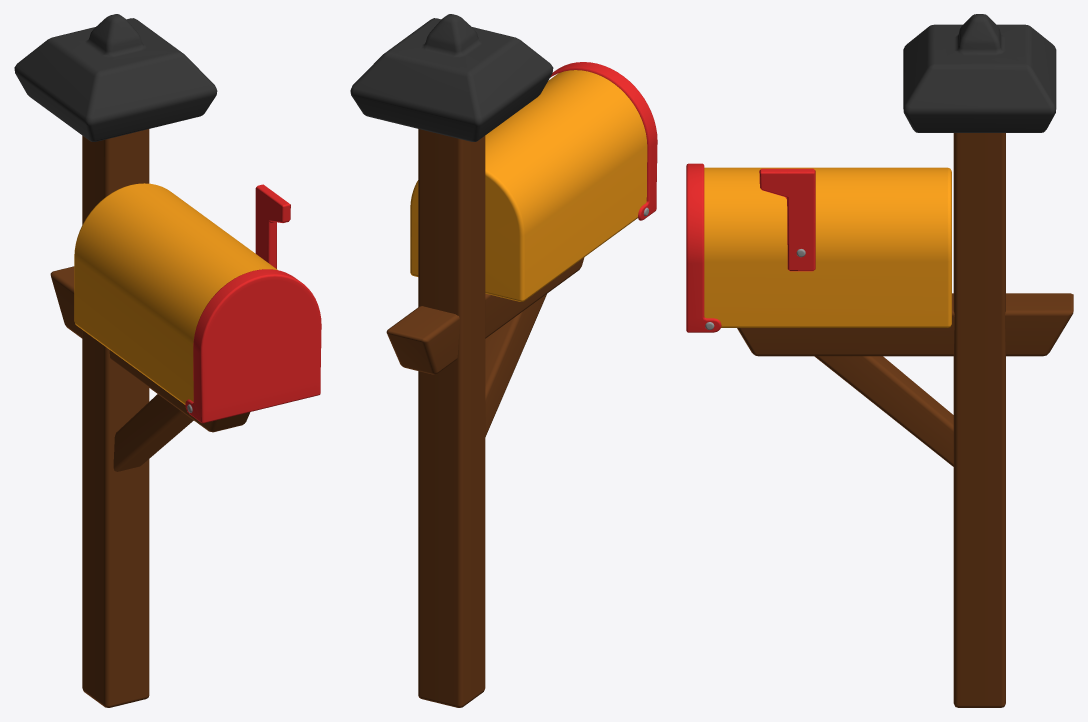
The model's file is mail-box.glb.
3 renders of one model, left to right at view 1: azimuth 30°, elevation 25°; view 2: azimuth 150°, elevation 25°; view 3: azimuth 270°, elevation 25°, orthographic.
Parts seen in each view (by area): view 1: Mail box.001; view 2: Mail box.001; view 3: Mail box.001.
Boxes of the visible parts, x1=… form: Mail box.001: x1=14, y1=14, x2=321, y2=707; Mail box.001: x1=350, y1=14, x2=657, y2=707; Mail box.001: x1=686, y1=14, x2=1073, y2=707.
Bounding box in the file's own units: 0.4106 × 1.99 × 1.02.
Materials: 1 (1 with a texture image).
